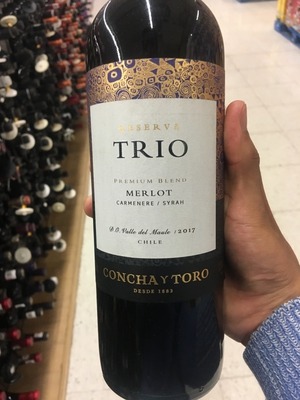trio merlot: (88, 11, 235, 388)
